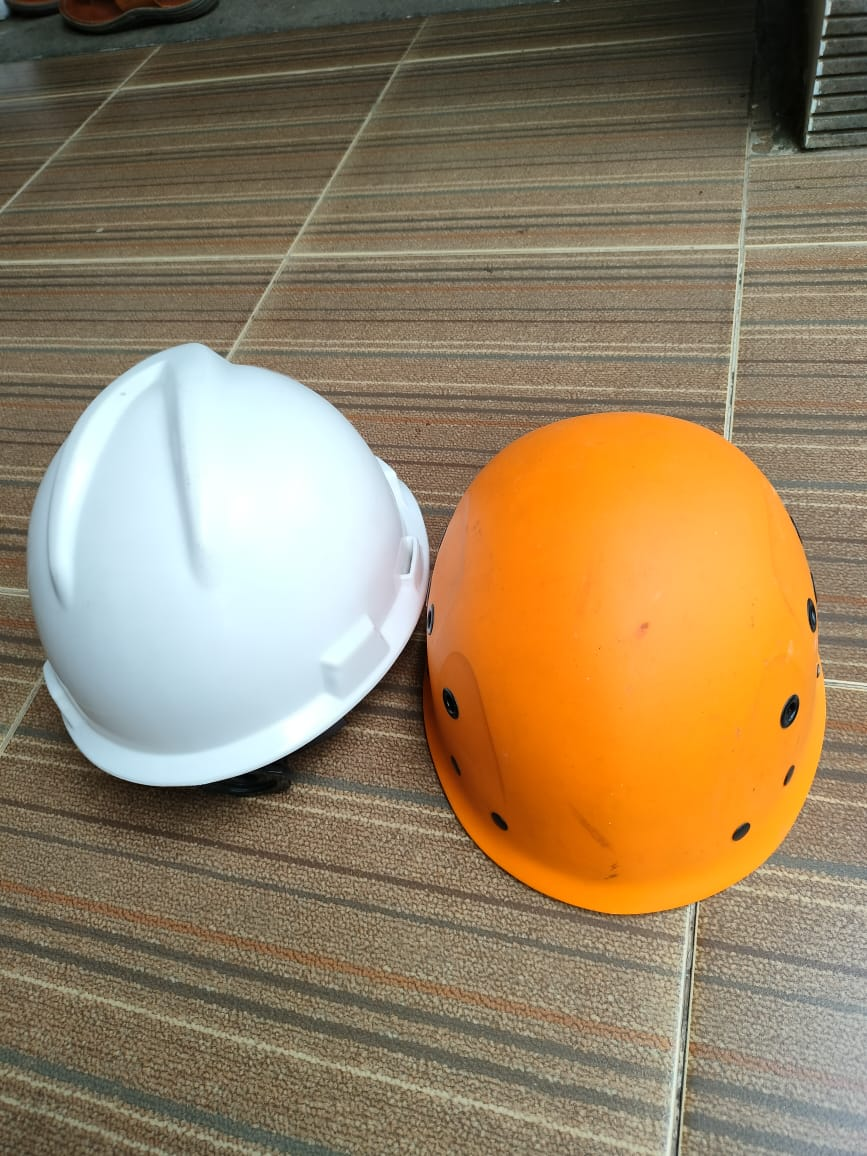HELM: (432, 417, 824, 901)
